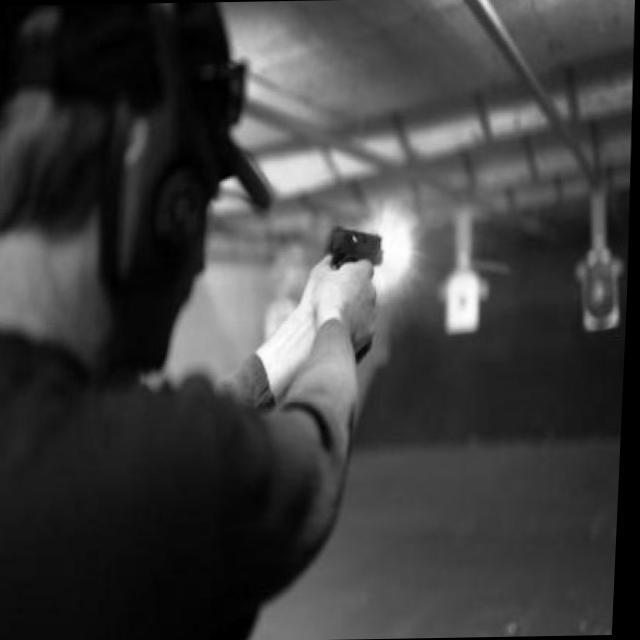weapon: (312, 216, 425, 367)
